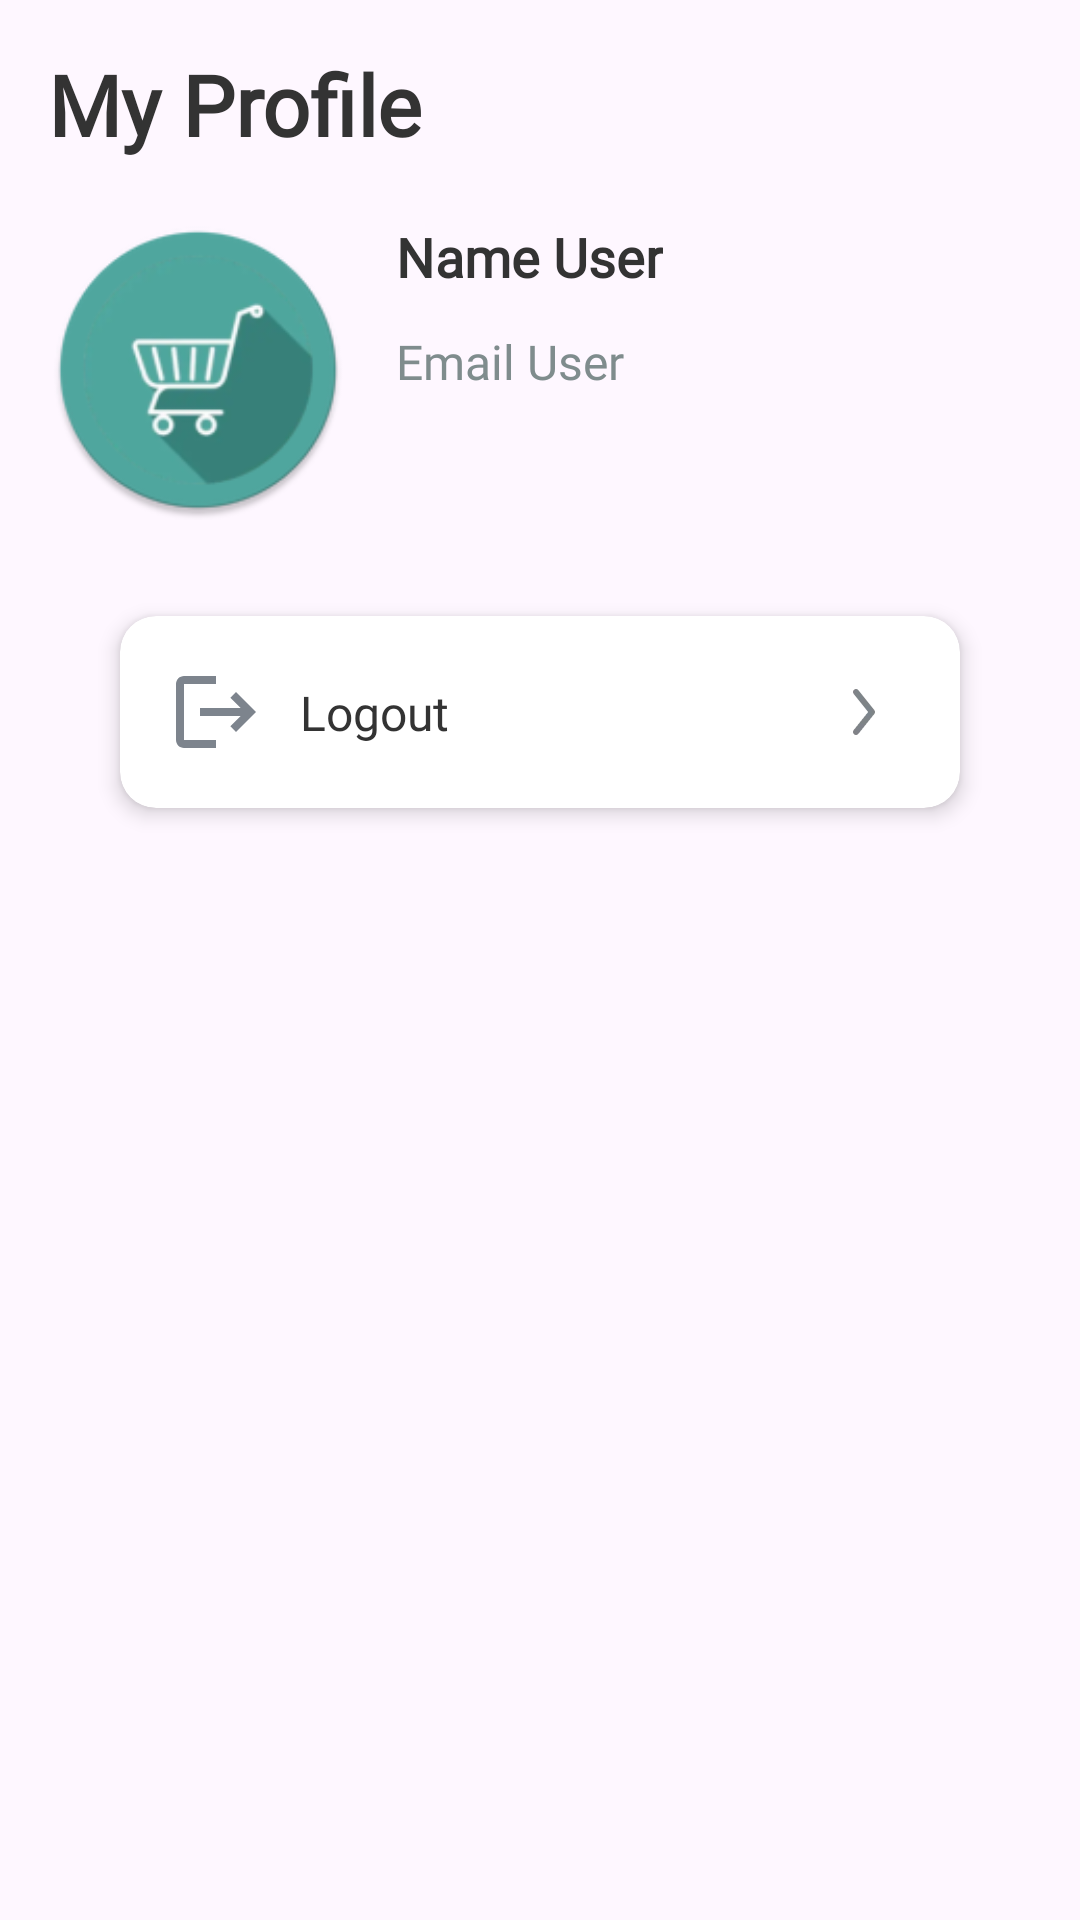

Icons on this 1080 x 1920 Android screen, each with the point to tap as point (x, y):
arrow right: point (864, 712)
